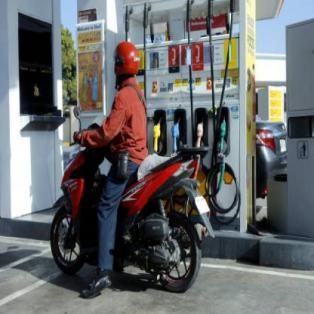Motocicleta: (49, 111, 214, 302)
